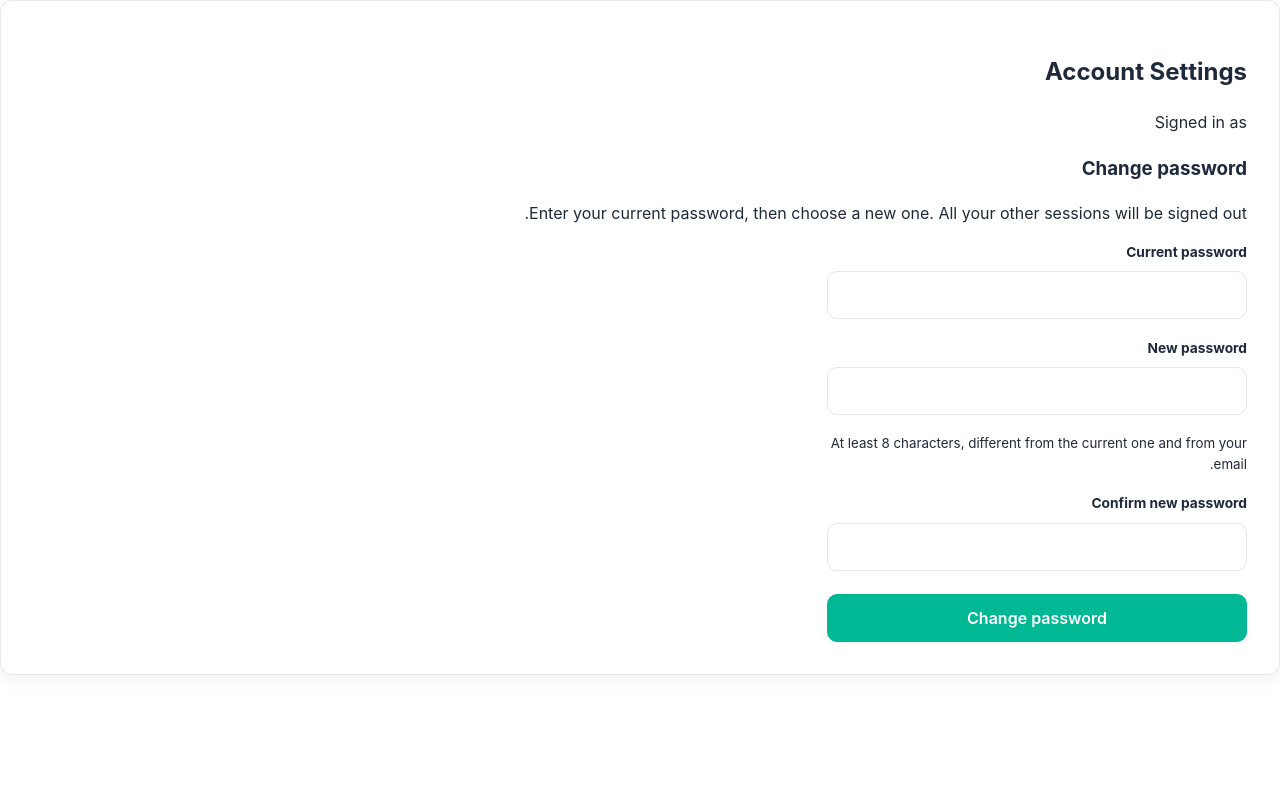
Test: Account Settings password change › sends only the two passwords, shows success and clears the fields
Type "OldPassw0rd!" into the password field labelled "Current password" at coordinates (1037, 295), box [827,271,1247,319]
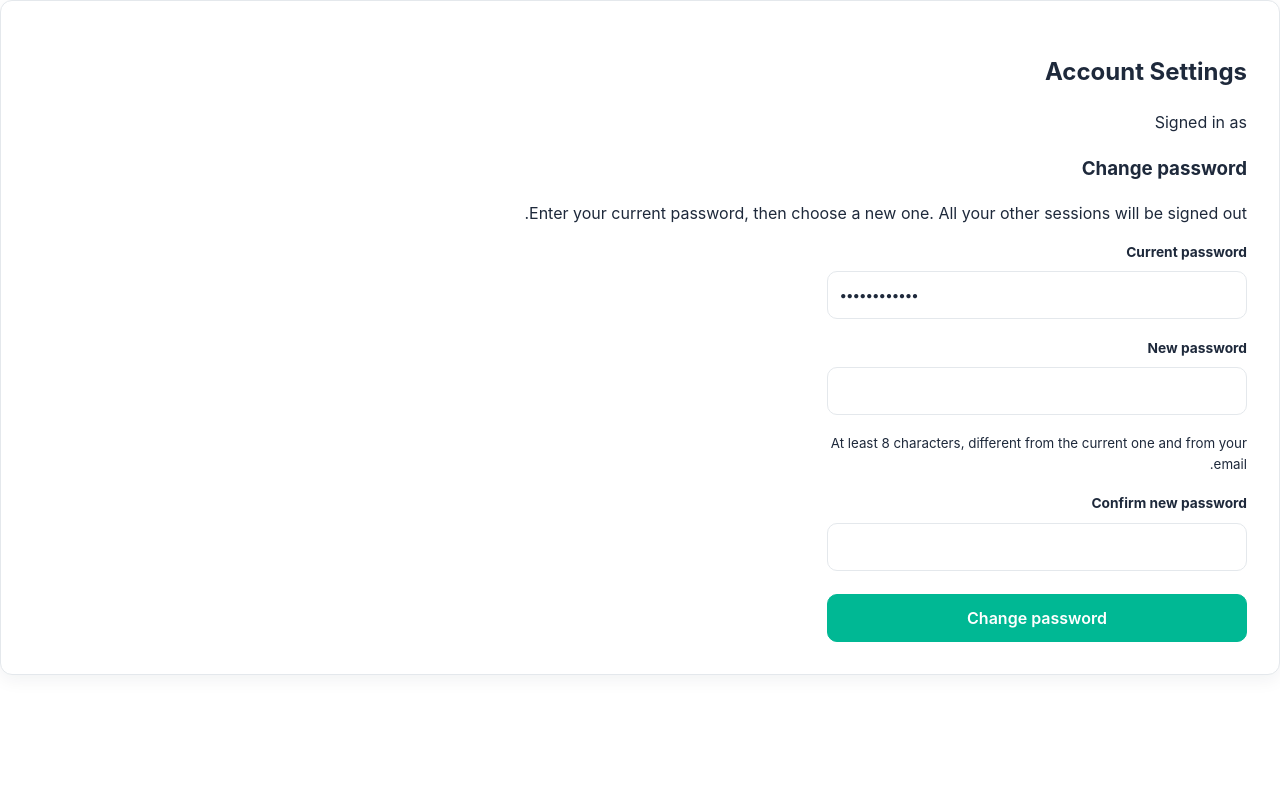
Type "Brand-new-pass-1" into the password field labelled "New password" at coordinates (1037, 391), box [827,367,1247,415]
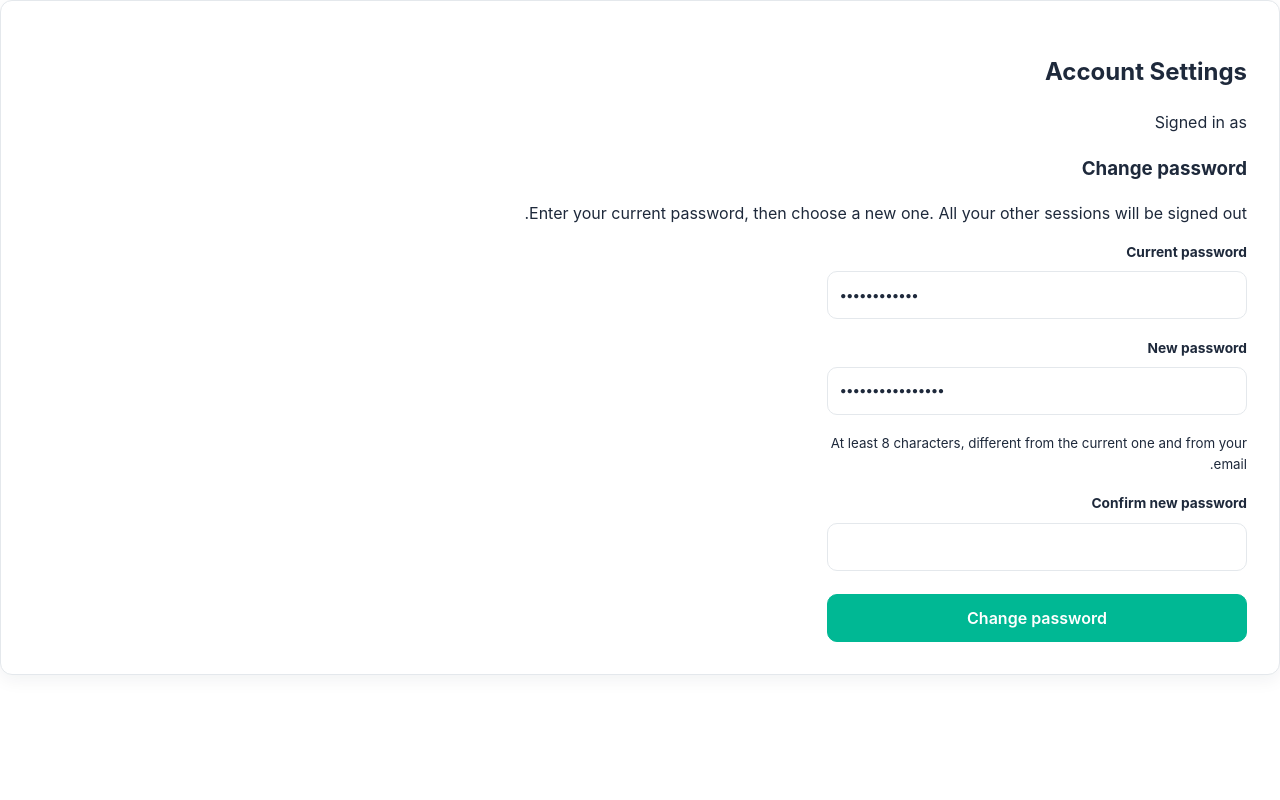
Type "Brand-new-pass-1" into the password field labelled "Confirm new password" at coordinates (1037, 546), box [827,522,1247,570]
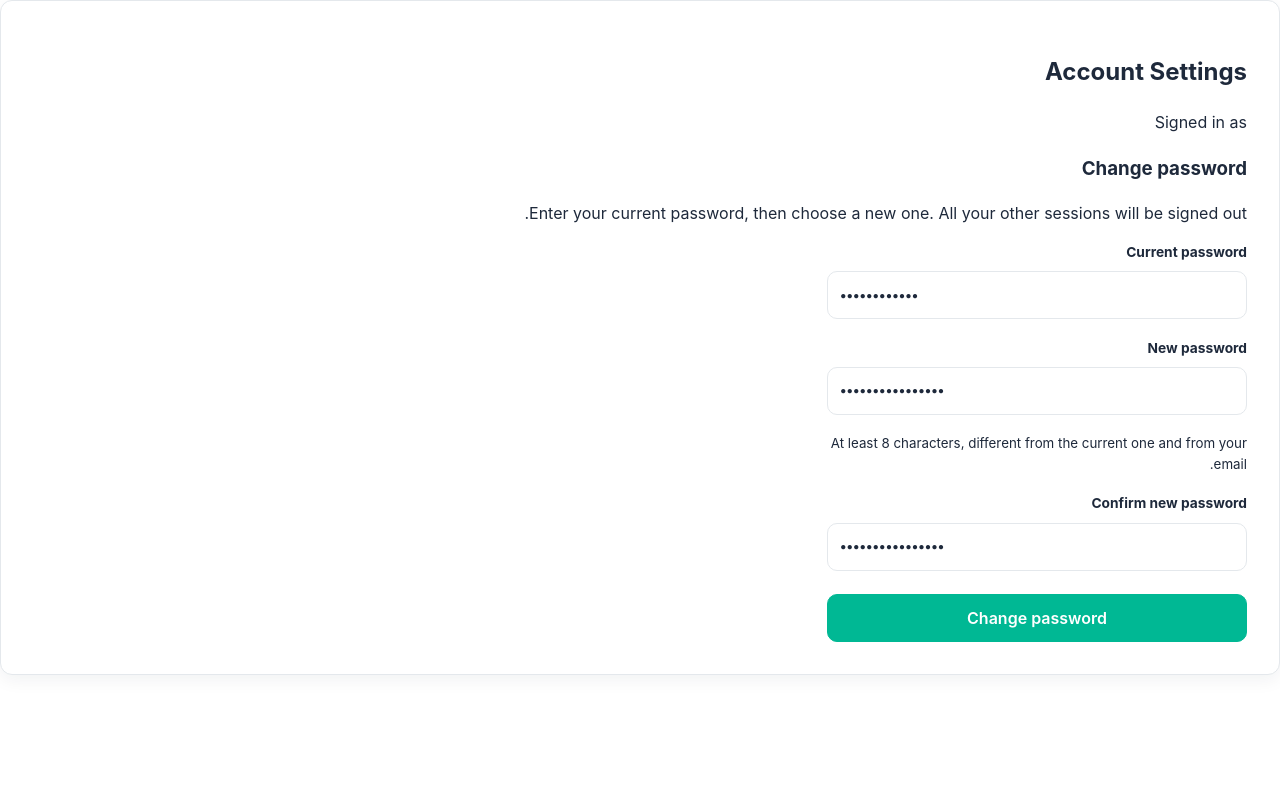
Click the button "Change password" at coordinates (1037, 618), box [827,594,1247,642]
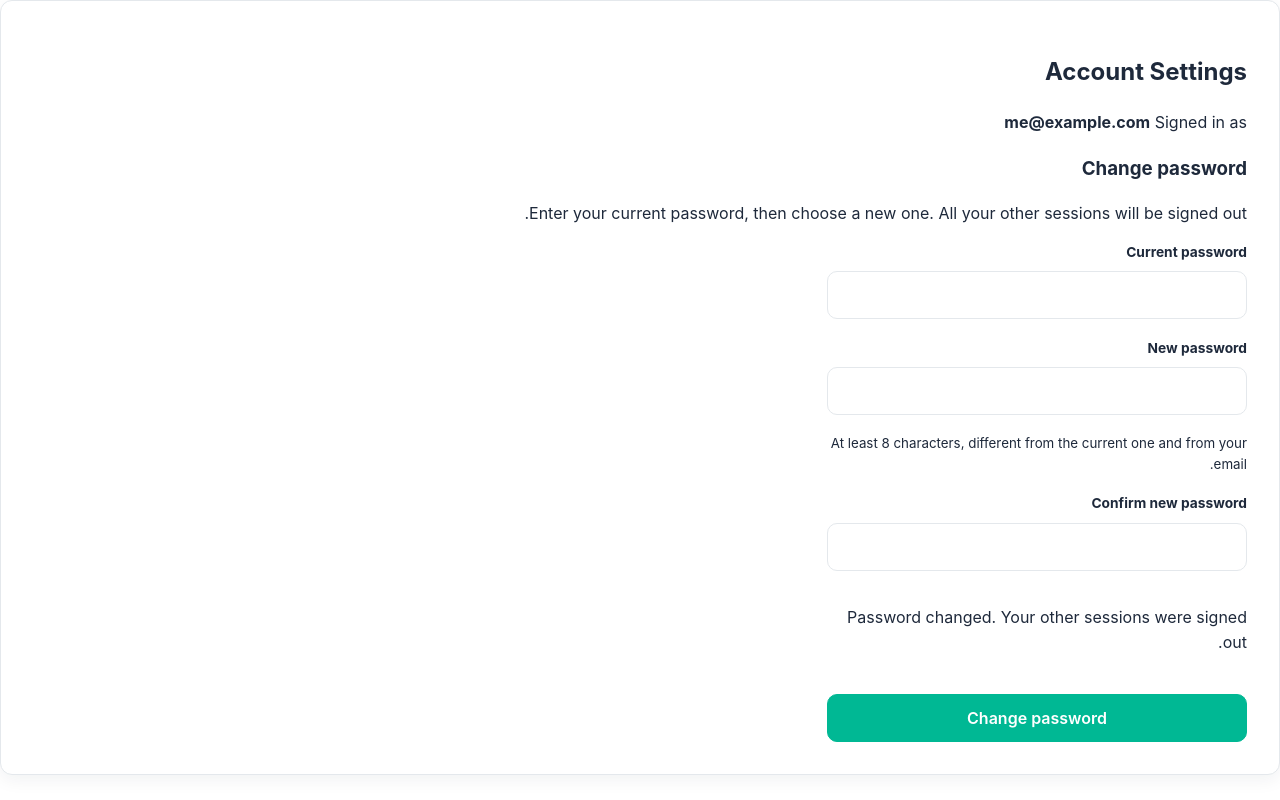
Check: the message shows "Password changed", box [847,607,1247,652]
Check: the password field labelled "Current password" is empty, box [827,271,1247,319]
